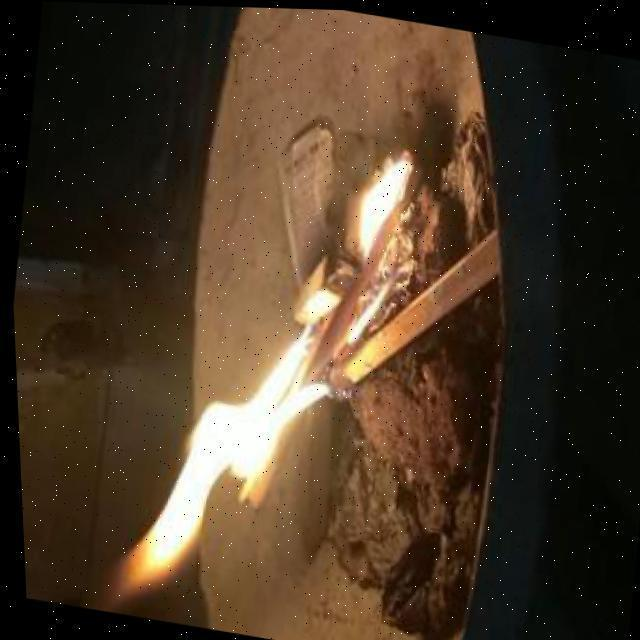fire: (113, 308, 343, 599), (321, 146, 411, 322)
